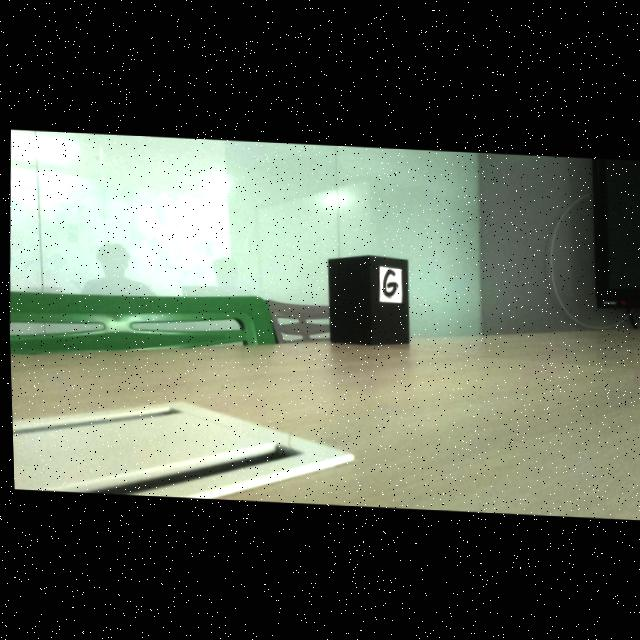G: (381, 268, 395, 296)
